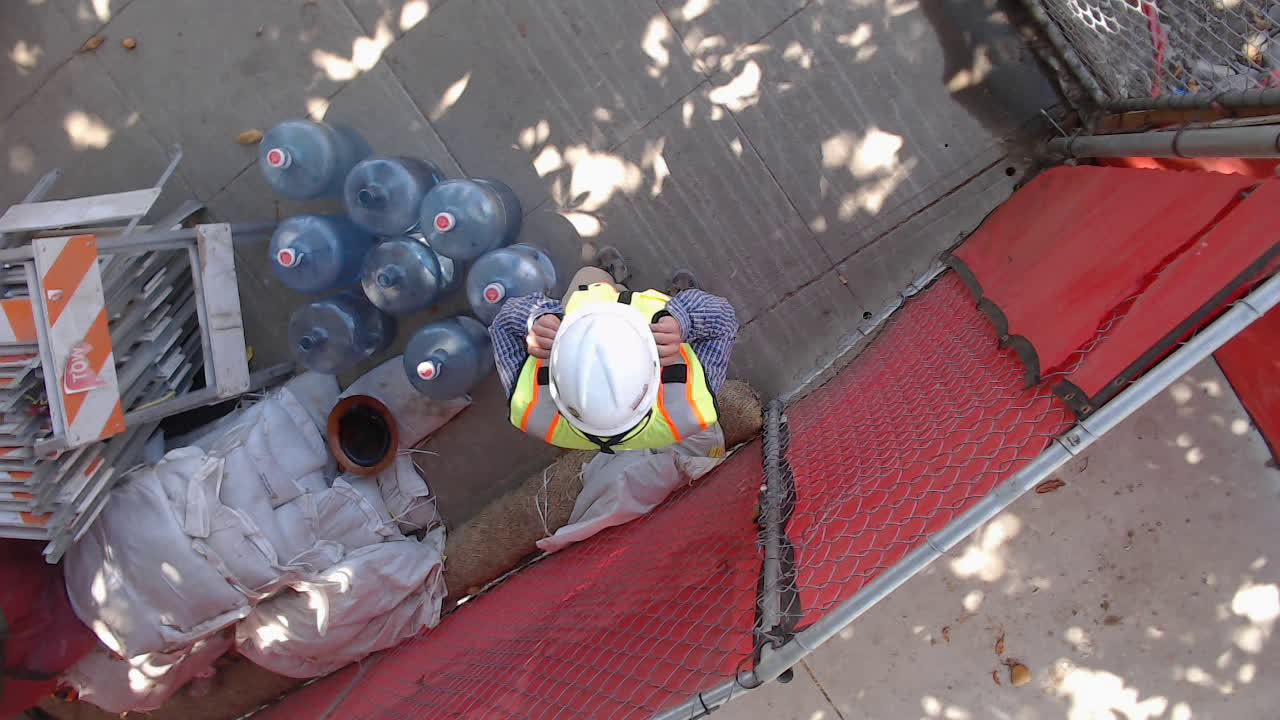hardhat: (548, 300, 656, 436)
safetyvest: (511, 287, 719, 452)
